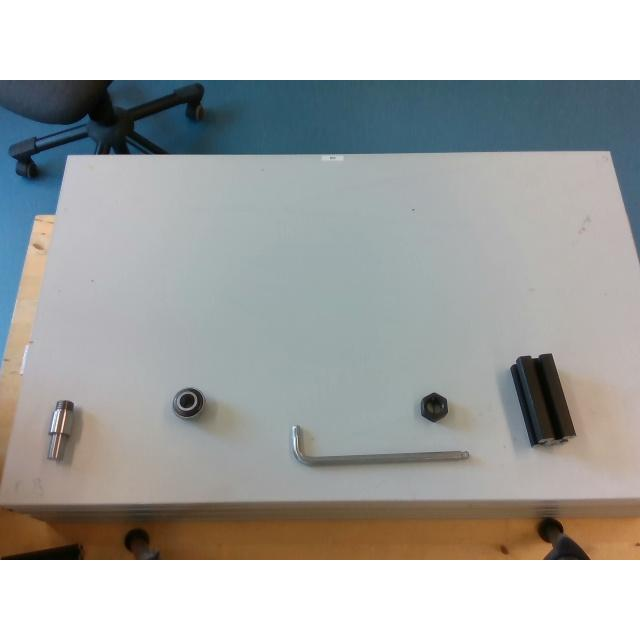AllenKey: (290, 425, 470, 465)
Axis2: (47, 400, 73, 460)
Bearing2: (172, 388, 204, 418)
M20: (420, 393, 448, 421)
S40_40_B: (510, 354, 574, 446)
